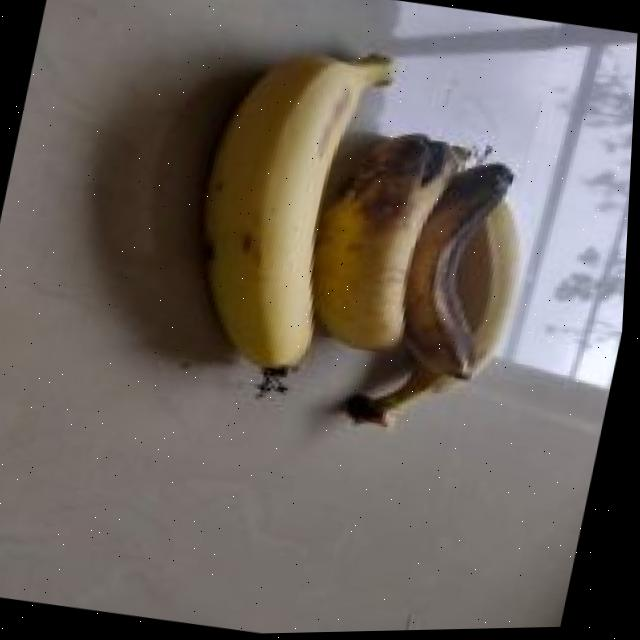Wet: (302, 122, 480, 370), (395, 153, 525, 391)
